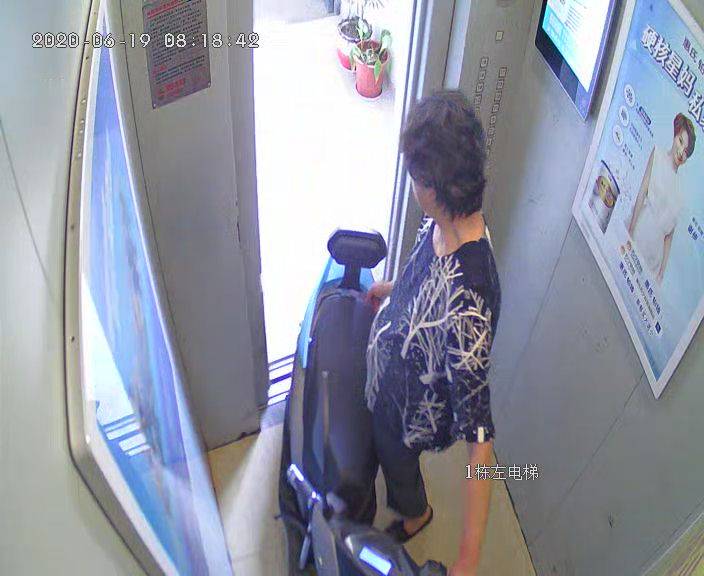Electric-bicycle: (279, 233, 445, 575)
